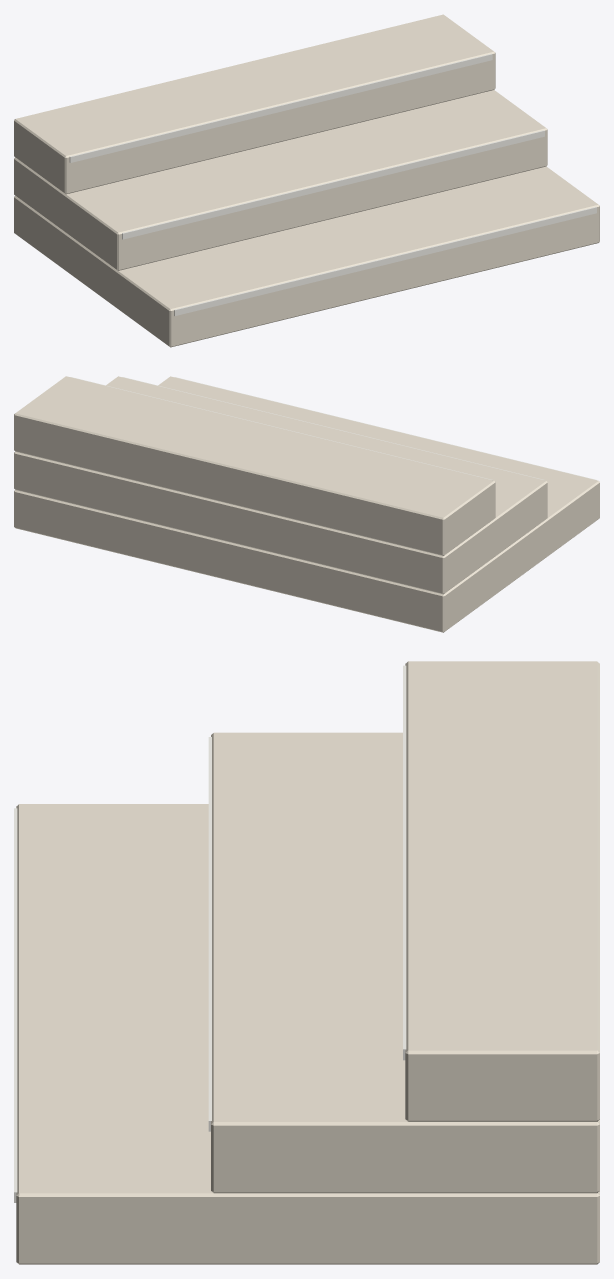
The model's file is roman-bathhouse-and-palaestra-bathhouse-step-run-ba0be02b__37858.glb.
The picture shows the model from 3 angles, top to bottom: view 1: azimuth 30°, elevation 25°; view 2: azimuth 150°, elevation 25°; view 3: azimuth 270°, elevation 25°; orthographic projection. The views are drawn at different scales.
Parts seen in each view (by area): view 1: bathhouse-step-run; view 2: bathhouse-step-run; view 3: bathhouse-step-run.
Boxes of the visible parts, left/top/right/bottom form: bathhouse-step-run: left=14, top=14, right=599, bottom=347; bathhouse-step-run: left=14, top=376, right=599, bottom=632; bathhouse-step-run: left=14, top=661, right=599, bottom=1264.
Bounding box in the file's own units: 2 × 0.5101 × 1.26.
